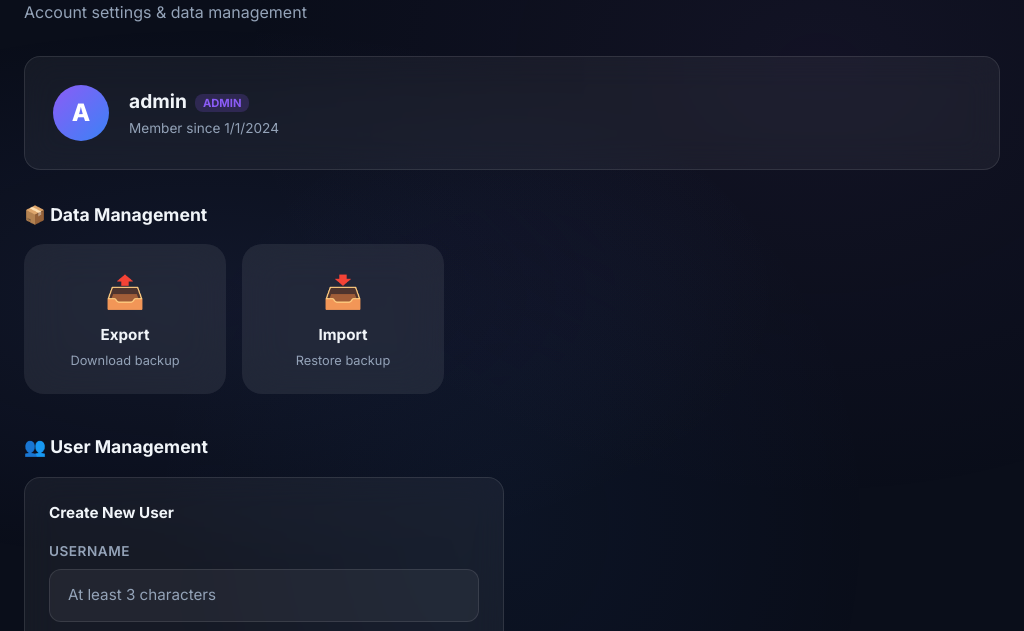
Test case: ProfilePage › create user form shows error on failure
expect the heading "Create New User" is shown: met, box [49,503,174,522]
Type "takenuser" into the field with placeholder "At least 3 characters".
click(264, 595); type("takenuser")  # box [49,569,479,622]
(page scrolled)
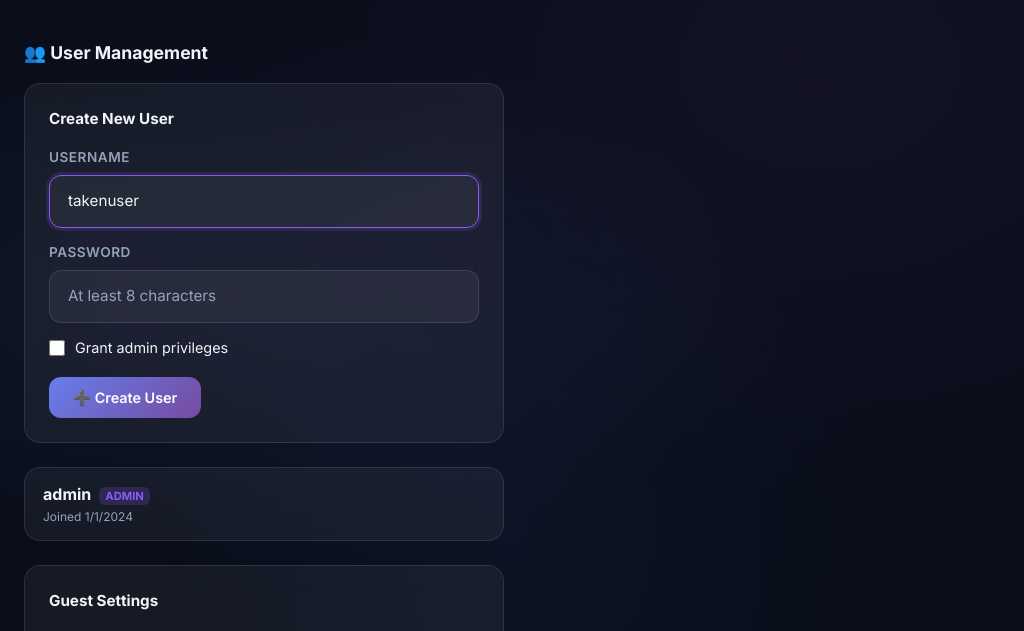
Type "password123" into the password field with placeholder "At least 8 characters".
click(264, 296); type("password123")  # box [49,270,479,323]
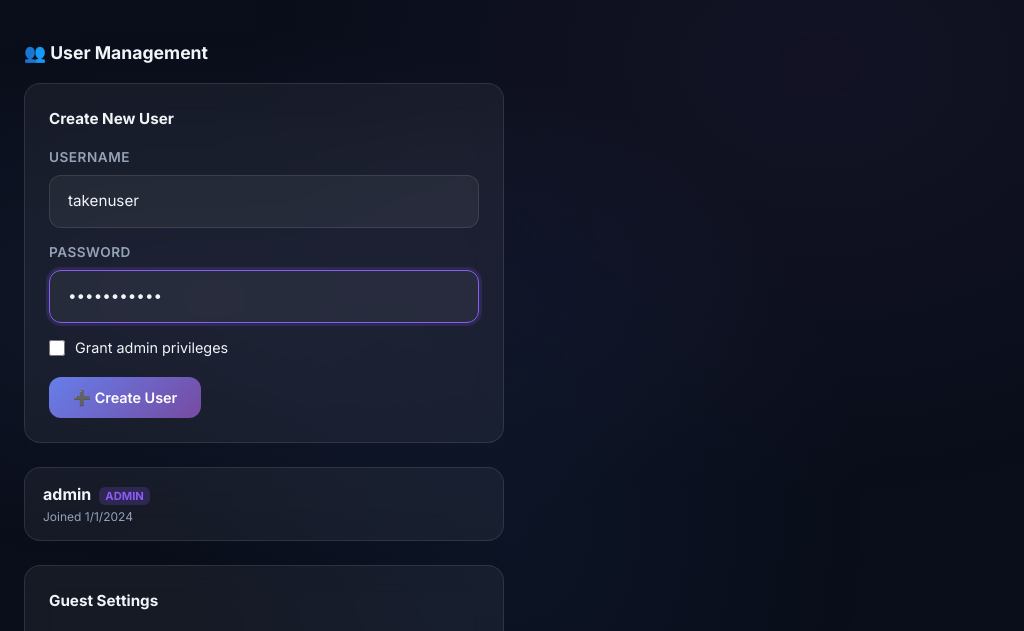
Click the button "➕ Create User".
click(125, 397)  # box [49,376,201,418]
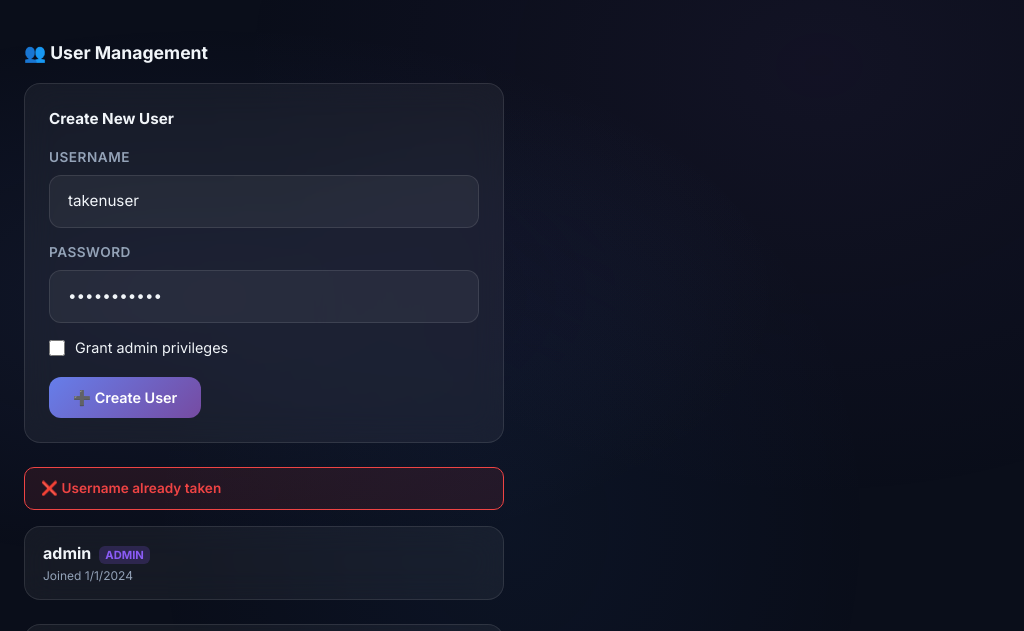
expect the text "❌ Username already taken" is shown: met, box [24,467,504,510]
